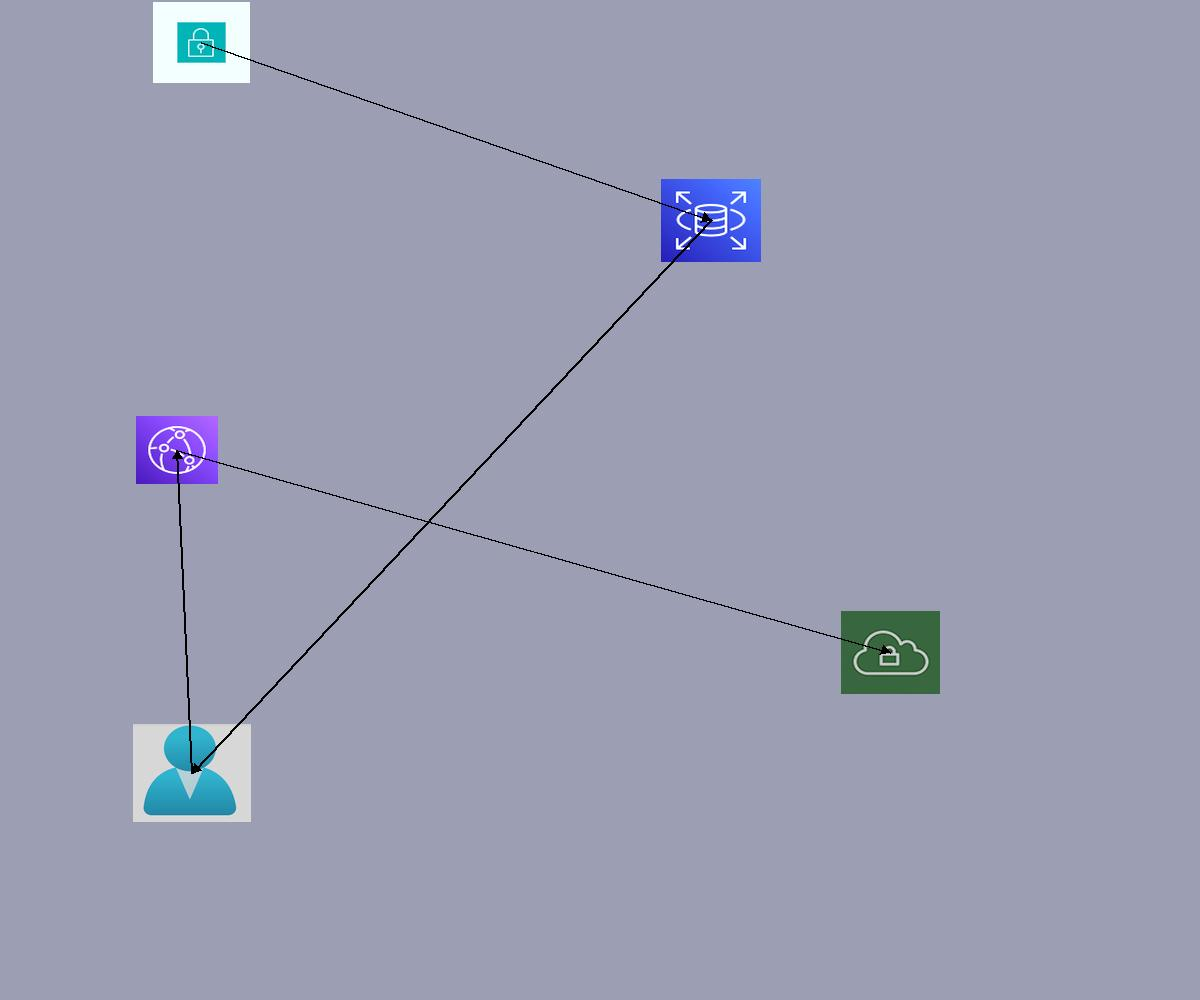AWS-CloudFront: (136, 416, 218, 484)
AWS-Private-subnet: (153, 2, 250, 83)
AWS-Private_vpc: (841, 611, 940, 694)
AWS-RDS: (661, 179, 761, 262)
Azure_users: (133, 724, 251, 822)
